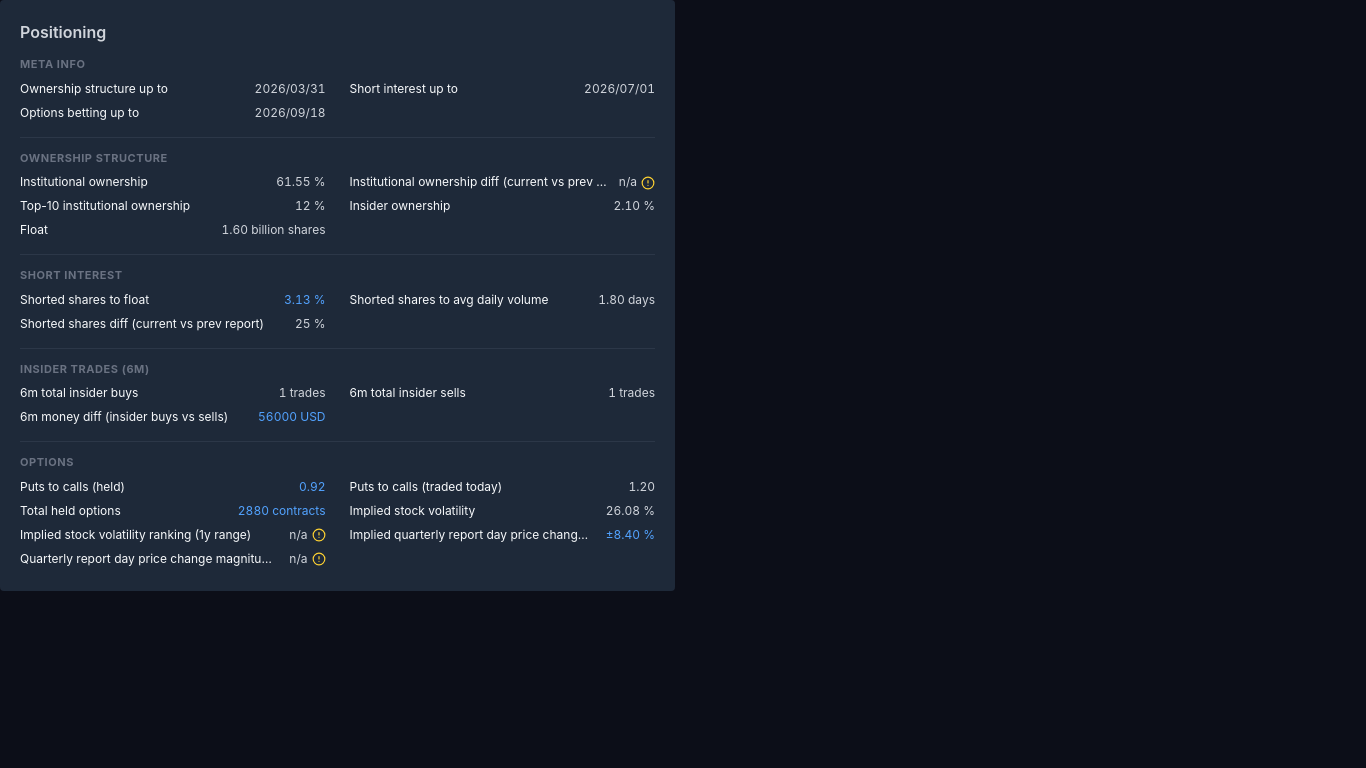
AltDimensions — positioning v2 › names and links the missing ingredient behind a blank report-move ratio
This screenshot has width=1366, height=768.
Click the button with test id "alt-field-notes-report_move_ratio_implied_4q".
click(318, 559)  # box [312,552,326,566]
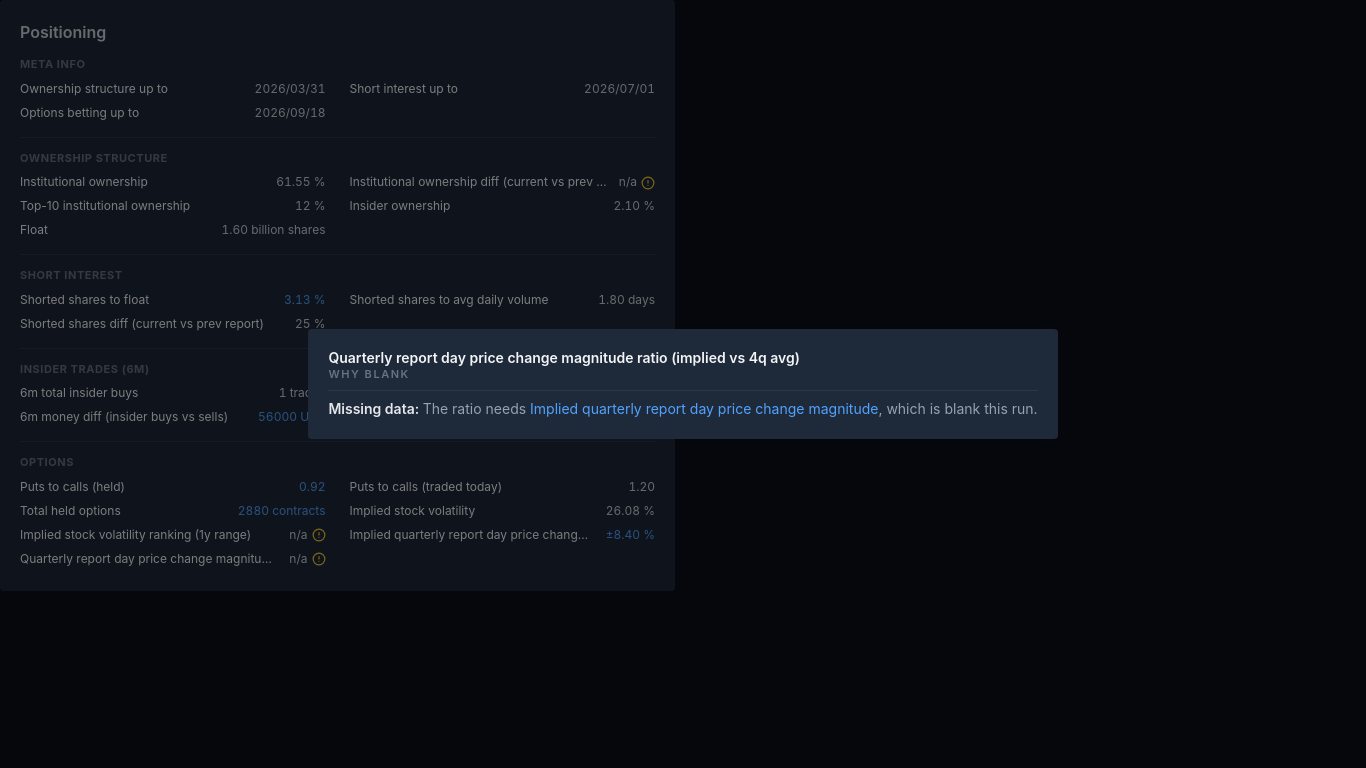
Result: the button "Implied quarterly report day price change magnitude" is shown at [530,399,878,419]
